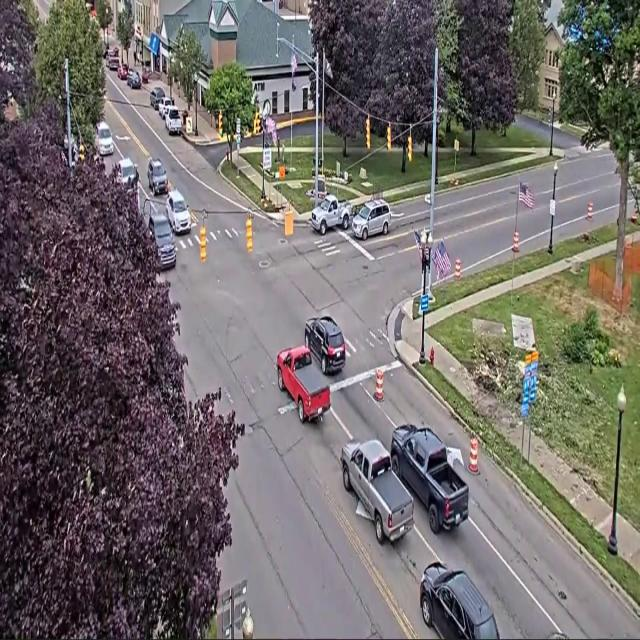car: (420, 562, 499, 639), (305, 316, 345, 374), (148, 210, 176, 269), (352, 200, 390, 240), (166, 190, 190, 234), (116, 158, 138, 192), (148, 159, 168, 195), (96, 121, 113, 156), (165, 106, 181, 135), (149, 87, 165, 110), (158, 96, 173, 119), (127, 70, 141, 88), (103, 44, 118, 59), (108, 56, 119, 71), (118, 64, 128, 79), (548, 632, 569, 639), (142, 68, 150, 84)
traffic signal: (245, 214, 252, 253), (200, 224, 206, 262), (253, 112, 260, 135), (366, 117, 370, 149), (387, 124, 391, 150), (218, 111, 222, 137), (408, 135, 412, 161), (78, 144, 84, 161), (548, 107, 552, 123)
truck: (391, 425, 468, 535), (341, 440, 413, 543), (276, 346, 330, 423), (311, 194, 352, 235)
